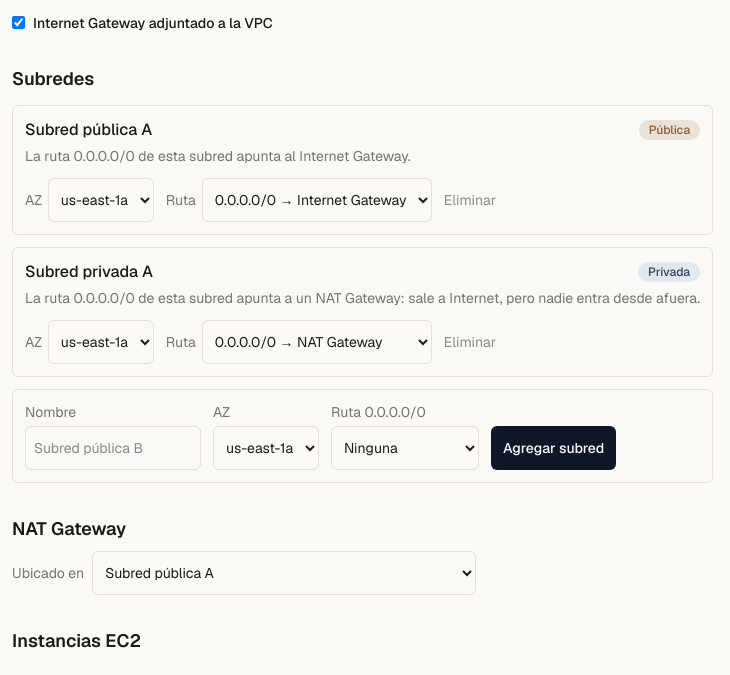
Test: VpcBuilder › changing a subnet's route updates its pública/privada badge
The width and height of the screenshot is (730, 675).
(page scrolled)
expect the text "Privada" is shown: met, box [638,262,700,282]
Select "0.0.0.0/0 → Internet Gateway" in the 2nd dropdown labelled "Ruta" at (317, 342), box [202,320,432,364]
(page scrolled)
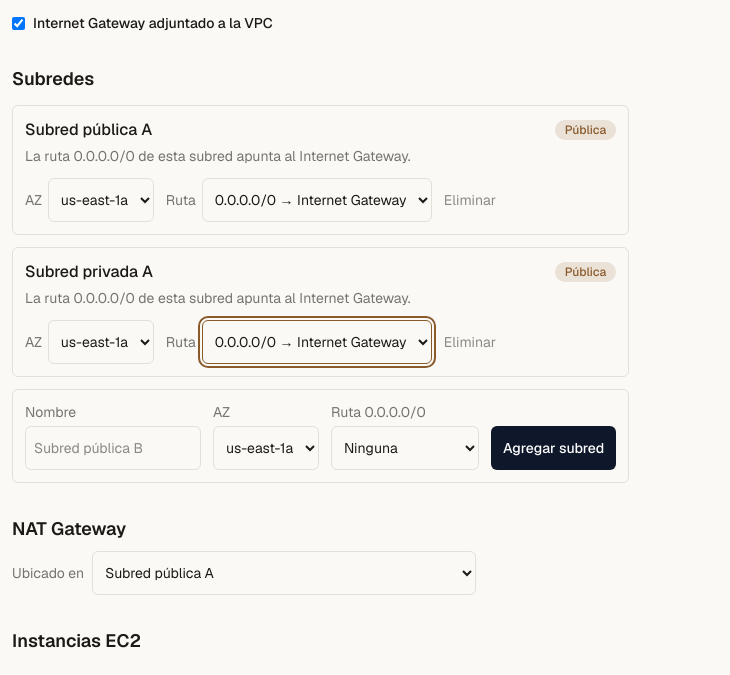
expect the 2nd text "Pública" is shown: met, box [555,262,616,282]
